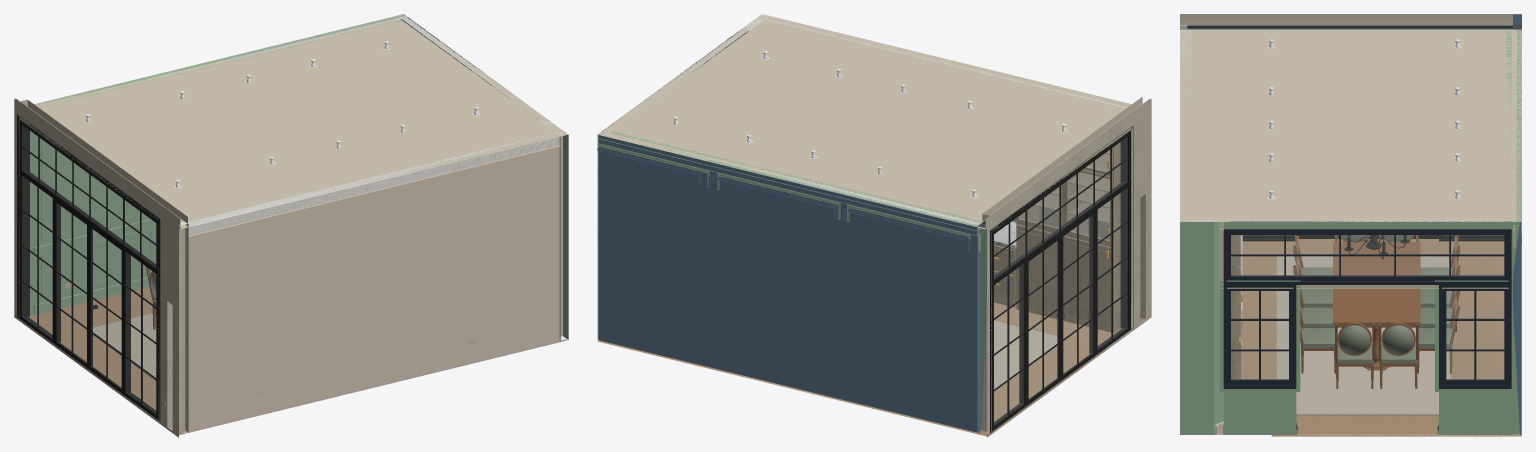
Rendered from dining-room-c711710810b8.glb.
The picture shows the model from 3 angles, left to right: view 1: azimuth 30°, elevation 25°; view 2: azimuth 150°, elevation 25°; view 3: azimuth 270°, elevation 25°; orthographic projection. The views are drawn at different scales.
Visible parts, largest first — view 1: dining-room-d999b7e09afcf2f4, dining-room-2575515a05775d9e, dining-room-08d72923bcfd3529, dining-room-b19b106fc304963c, dining-room-6ee65e99bea3721a, dining-room-3b0077416469e01b, dining-room-a6417c3a9acf4891, dining-room-9d465714b306dbae, dining-room-33ee0b466567e5f0, dining-room-871e2e831c6190fa, dining-room-d33eebe572d154f2, dining-room-8b1c368f4645b32b (+7 smaller); view 2: dining-room-b19b106fc304963c, dining-room-2575515a05775d9e, dining-room-08d72923bcfd3529, dining-room-6ee65e99bea3721a, dining-room-3b0077416469e01b, dining-room-1bf7a67d8ce0efe5, dining-room-039192b0560cfac3, dining-room-33ee0b466567e5f0, dining-room-871e2e831c6190fa, dining-room-2c2ea765d431e5a6, dining-room-478b3d72e55116fc, dining-room-8b1c368f4645b32b (+10 smaller); view 3: dining-room-2575515a05775d9e, dining-room-98d6adcddba0b27e, dining-room-31023c09b8d733cb, dining-room-3b0077416469e01b, dining-room-871e2e831c6190fa, dining-room-04e6278159fe4ee8, dining-room-ad953dfeb3e994ba, dining-room-9b21989b25895c4a, dining-room-1ce065e69c1a4746, dining-room-8d0c89bf27e198bd, dining-room-33ee0b466567e5f0, dining-room-d33eebe572d154f2 (+18 smaller).
Part boxes in pixels (box(x1,y1,x2,y2)): dining-room-d999b7e09afcf2f4: box(188, 133, 559, 431); dining-room-2575515a05775d9e: box(15, 14, 568, 229); dining-room-08d72923bcfd3529: box(17, 114, 160, 421); dining-room-b19b106fc304963c: box(30, 17, 400, 315); dining-room-6ee65e99bea3721a: box(18, 109, 175, 432); dining-room-3b0077416469e01b: box(14, 287, 156, 403); dining-room-a6417c3a9acf4891: box(188, 136, 560, 236); dining-room-9d465714b306dbae: box(175, 221, 188, 434); dining-room-33ee0b466567e5f0: box(18, 99, 187, 225); dining-room-871e2e831c6190fa: box(86, 313, 156, 380); dining-room-d33eebe572d154f2: box(556, 132, 568, 341); dining-room-8b1c368f4645b32b: box(34, 14, 405, 104); dining-room-b19b106fc304963c: box(597, 133, 980, 432); dining-room-2575515a05775d9e: box(597, 14, 1150, 229); dining-room-08d72923bcfd3529: box(990, 126, 1133, 432); dining-room-6ee65e99bea3721a: box(982, 108, 1148, 431); dining-room-3b0077416469e01b: box(597, 319, 1107, 436); dining-room-1bf7a67d8ce0efe5: box(1016, 142, 1120, 332); dining-room-039192b0560cfac3: box(977, 216, 991, 434); dining-room-33ee0b466567e5f0: box(982, 96, 1151, 222); dining-room-871e2e831c6190fa: box(994, 320, 1066, 392); dining-room-2c2ea765d431e5a6: box(1069, 243, 1107, 320); dining-room-478b3d72e55116fc: box(1020, 231, 1057, 308); dining-room-8b1c368f4645b32b: box(597, 138, 979, 235); dining-room-2575515a05775d9e: box(1180, 14, 1521, 221); dining-room-98d6adcddba0b27e: box(1223, 229, 1511, 284); dining-room-31023c09b8d733cb: box(1223, 219, 1521, 434); dining-room-3b0077416469e01b: box(1271, 239, 1521, 436); dining-room-871e2e831c6190fa: box(1276, 256, 1451, 415); dining-room-04e6278159fe4ee8: box(1223, 285, 1296, 388); dining-room-ad953dfeb3e994ba: box(1439, 285, 1511, 388); dining-room-9b21989b25895c4a: box(1191, 218, 1223, 434); dining-room-1ce065e69c1a4746: box(1333, 242, 1420, 370); dining-room-8d0c89bf27e198bd: box(1216, 241, 1271, 434); dining-room-33ee0b466567e5f0: box(1180, 14, 1512, 25); dining-room-d33eebe572d154f2: box(1180, 222, 1191, 434).
Bounding box in the file's own units: 5.95 × 3.19 × 4.36.
Materials: 39 (10 with a texture image).
